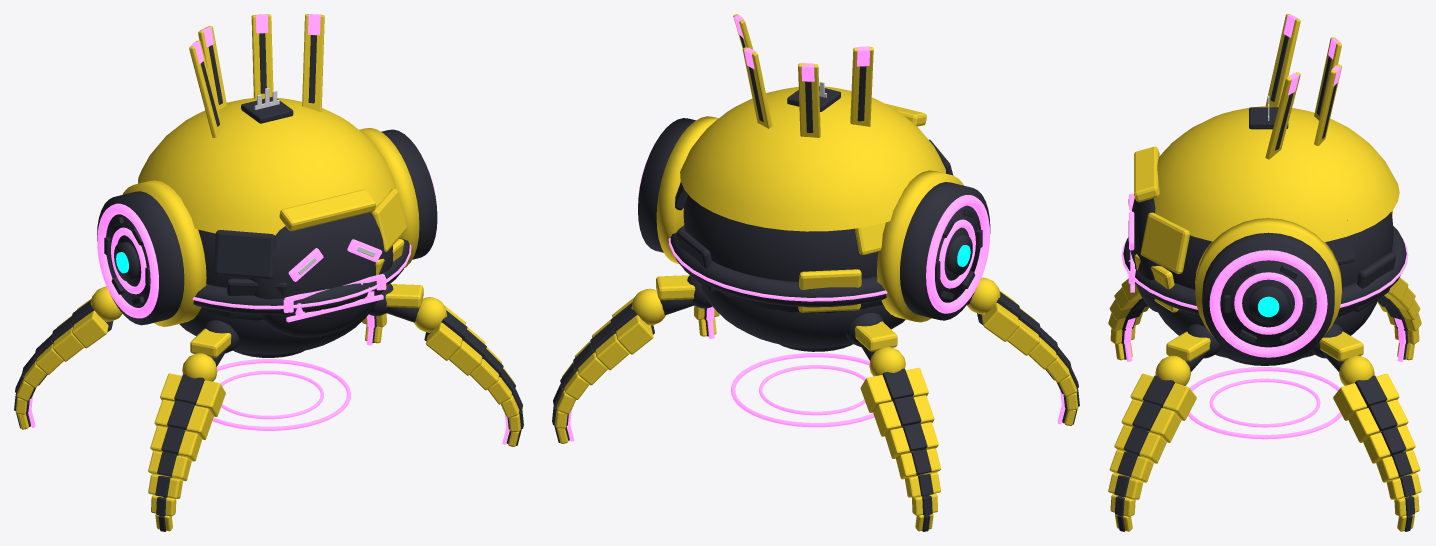
File: OrbitRush_Drone.fbx
3 views of the same model, side by side, from view 1: azimuth 30°, elevation 25°; view 2: azimuth 150°, elevation 25°; view 3: azimuth 270°, elevation 25° (orthographic). The views are drawn at different scales.
Visible parts, largest first — view 1: Drone_FINAL_M_En_Yellow, Drone_FINAL_M_En_Black, Drone_FINAL_M_En_Pink; view 2: Drone_FINAL_M_En_Yellow, Drone_FINAL_M_En_Black, Drone_FINAL_M_En_Pink; view 3: Drone_FINAL_M_En_Yellow, Drone_FINAL_M_En_Black, Drone_FINAL_M_En_Pink.
Part boxes in pixels (left/top/right/bottom): Drone_FINAL_M_En_Yellow: left=15, top=14, right=520, bottom=531; Drone_FINAL_M_En_Black: left=14, top=33, right=523, bottom=531; Drone_FINAL_M_En_Pink: left=28, top=14, right=509, bottom=444; Drone_FINAL_M_En_Yellow: left=555, top=14, right=1078, bottom=531; Drone_FINAL_M_En_Black: left=552, top=35, right=1079, bottom=531; Drone_FINAL_M_En_Pink: left=567, top=15, right=1065, bottom=441; Drone_FINAL_M_En_Yellow: left=1108, top=14, right=1421, bottom=531; Drone_FINAL_M_En_Black: left=1114, top=35, right=1415, bottom=531; Drone_FINAL_M_En_Pink: left=1121, top=15, right=1408, bottom=439.
Bounding box in the file's own units: 2.42 × 2.46 × 1.75.
